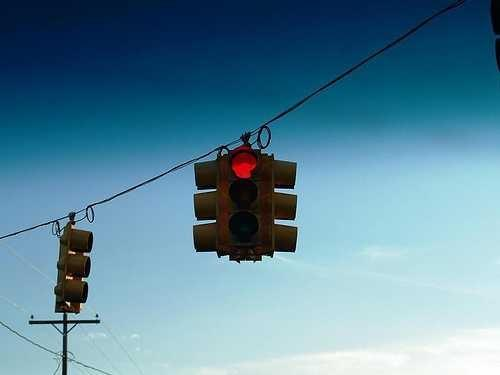red: (226, 146, 267, 251), (227, 147, 265, 182)
